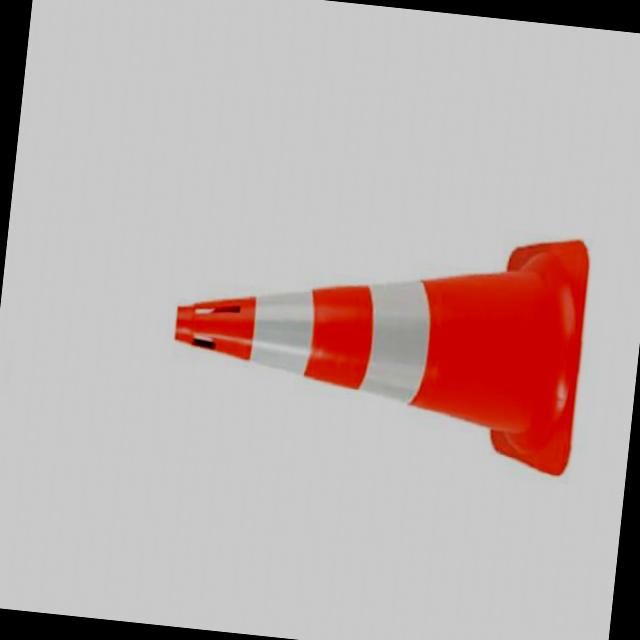cone: (146, 194, 594, 473)
